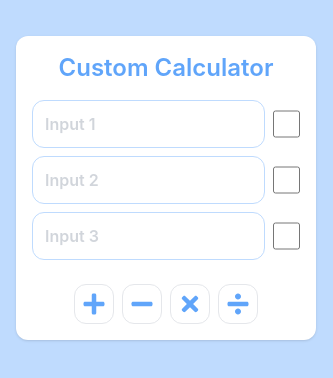
Test: Home › shows error when only 1 input
Type "23" into the number field with placeholder "Input 1" at (148, 124), box [32,100,265,148]
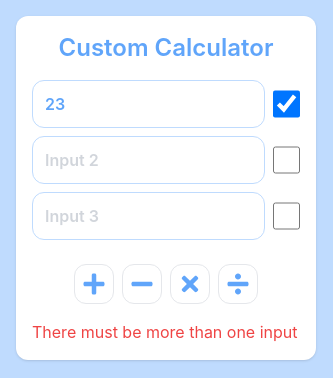
Result: the text "There must be more than one input" is shown at [32,320,300,344]
